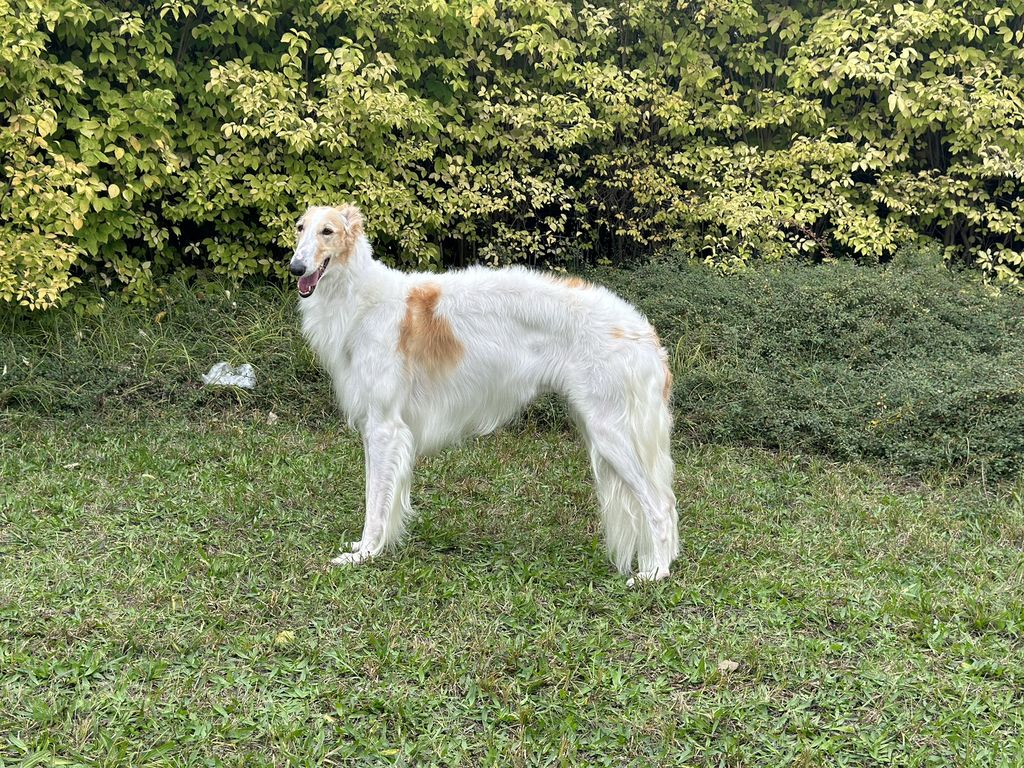borzoi: (289, 195, 695, 596)
